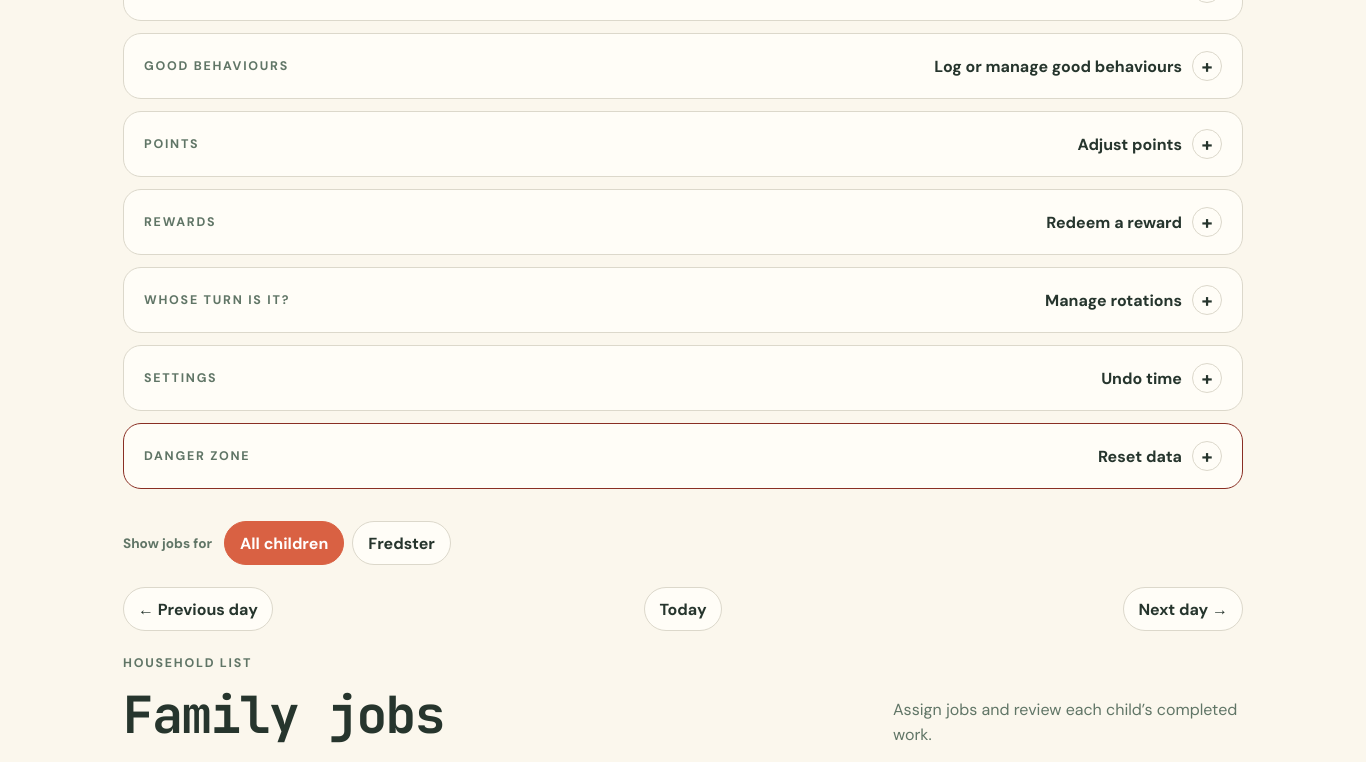
Scenario: undoable actions › lets a grown-up change the undo time for later actions
(page scrolled)
Click the heading "Settings Undo time +".
click(181, 378)  # box [144,363,1222,393]
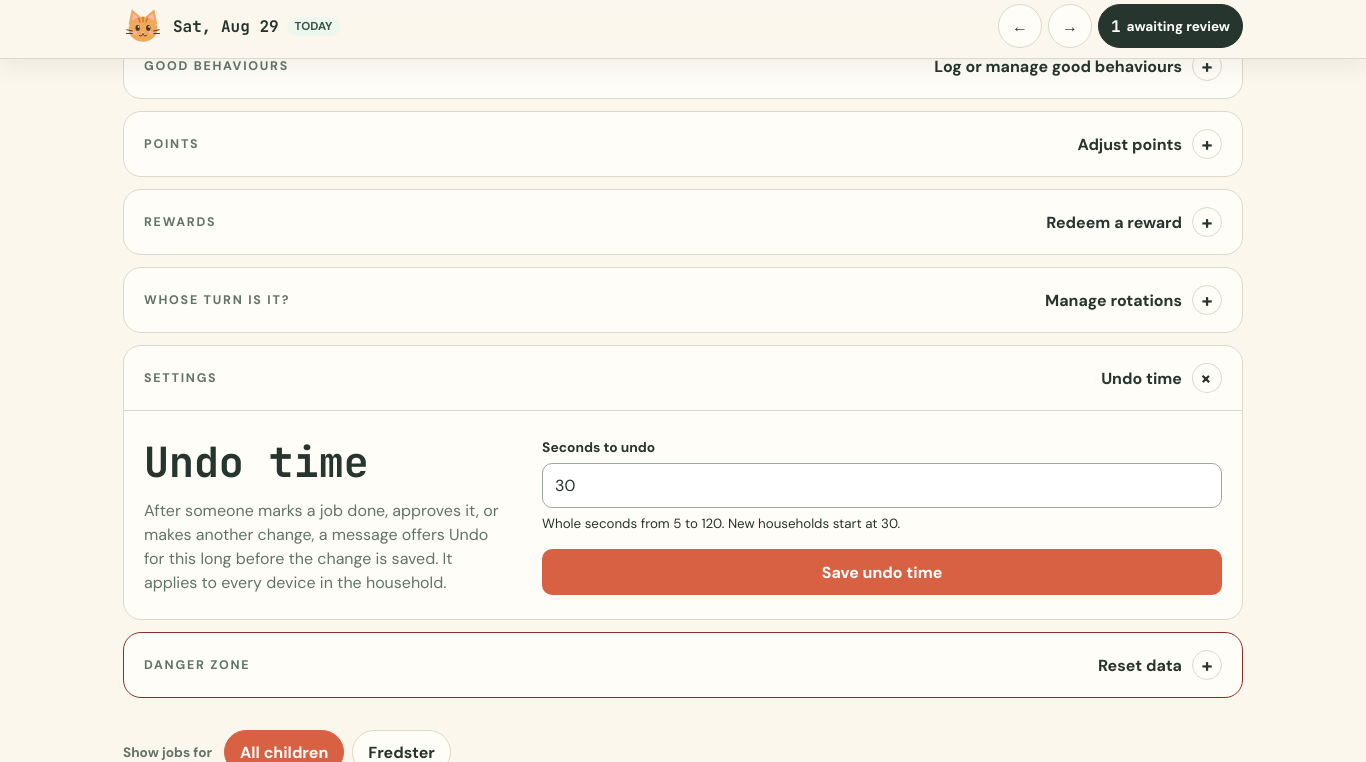
expect the number field labelled "Seconds to undo" holds "30": met
Replace the text in the number field labelled "Seconds to undo" with "45" at (882, 486), box [542,463,1222,508]
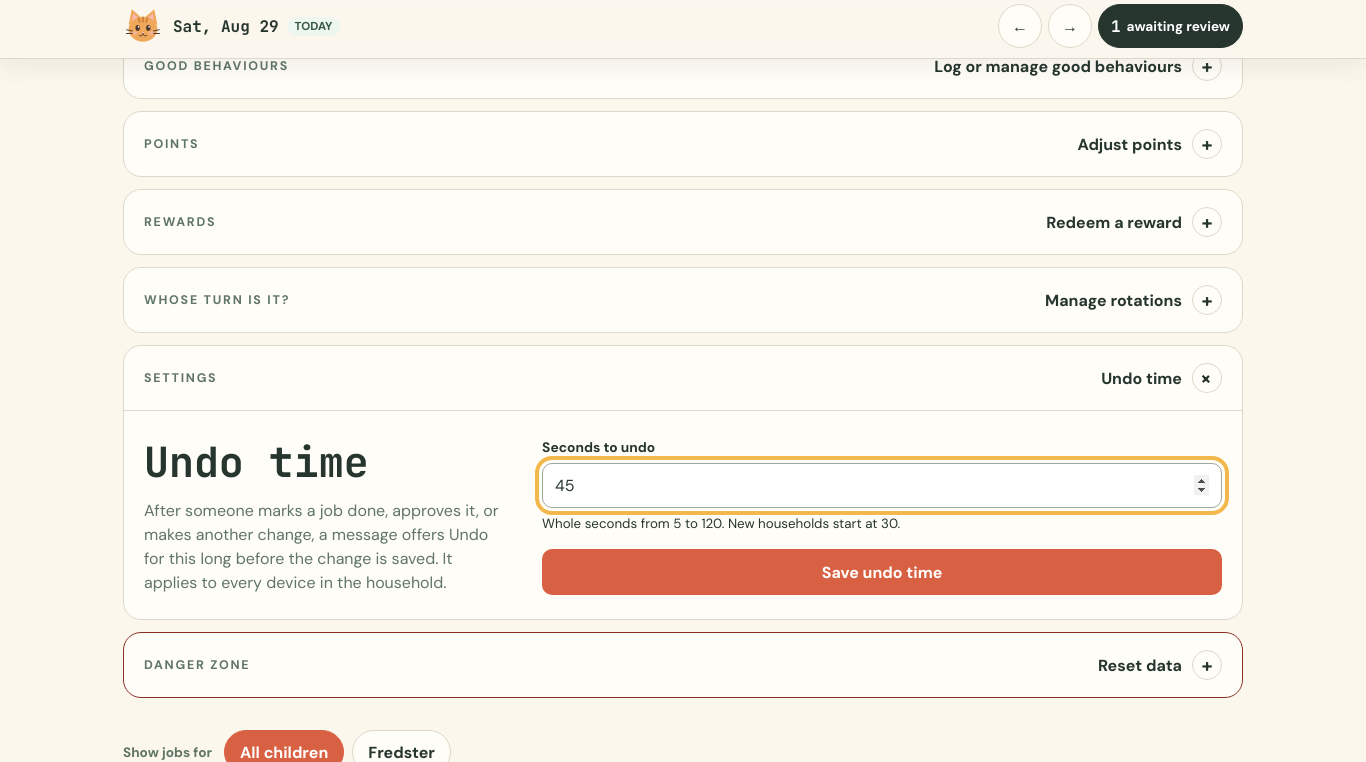
Click the button "Save undo time".
click(882, 572)  # box [542,549,1222,595]
(page scrolled)
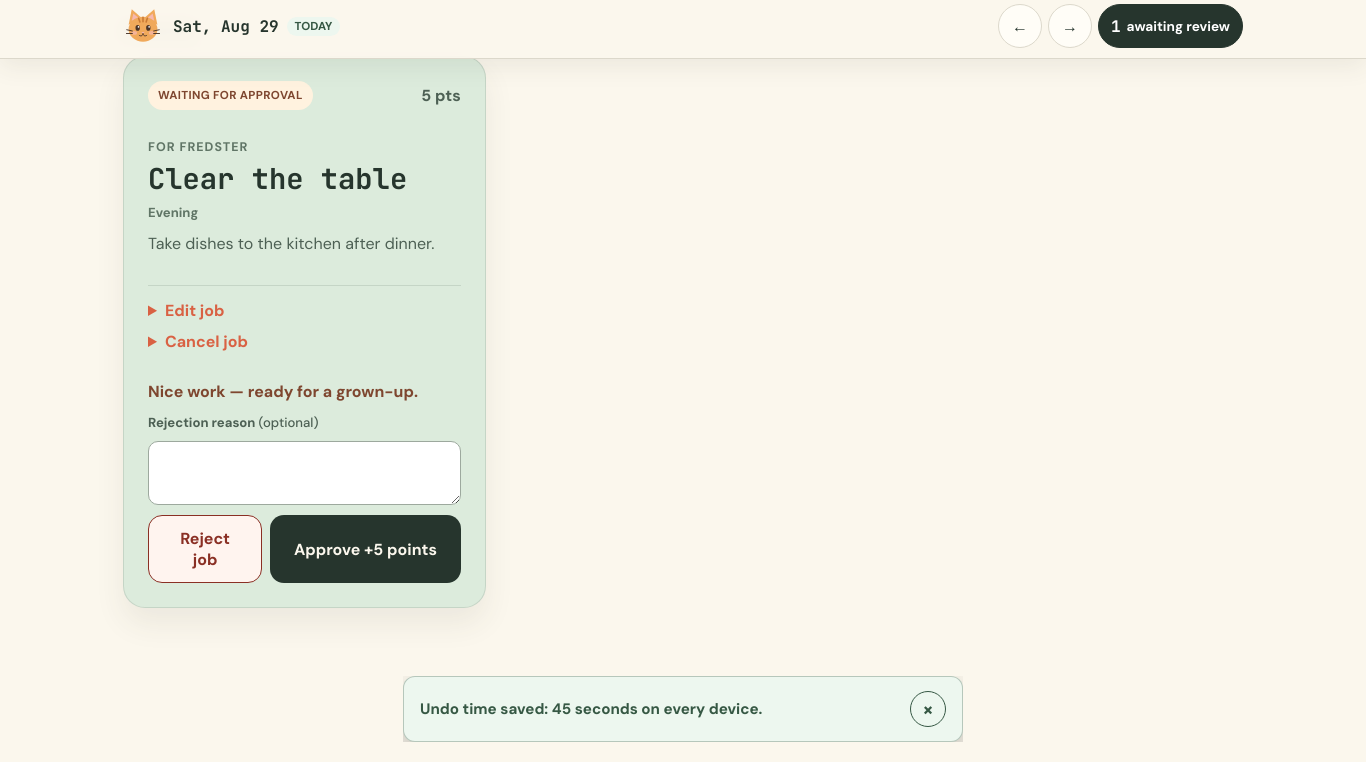
expect the 2nd text "Undo time saved: 45 seconds on every device." is shown: met, box [420,699,762,719]
Click the button "Approve +5 points".
click(365, 549)  # box [270,515,461,583]
(page scrolled)
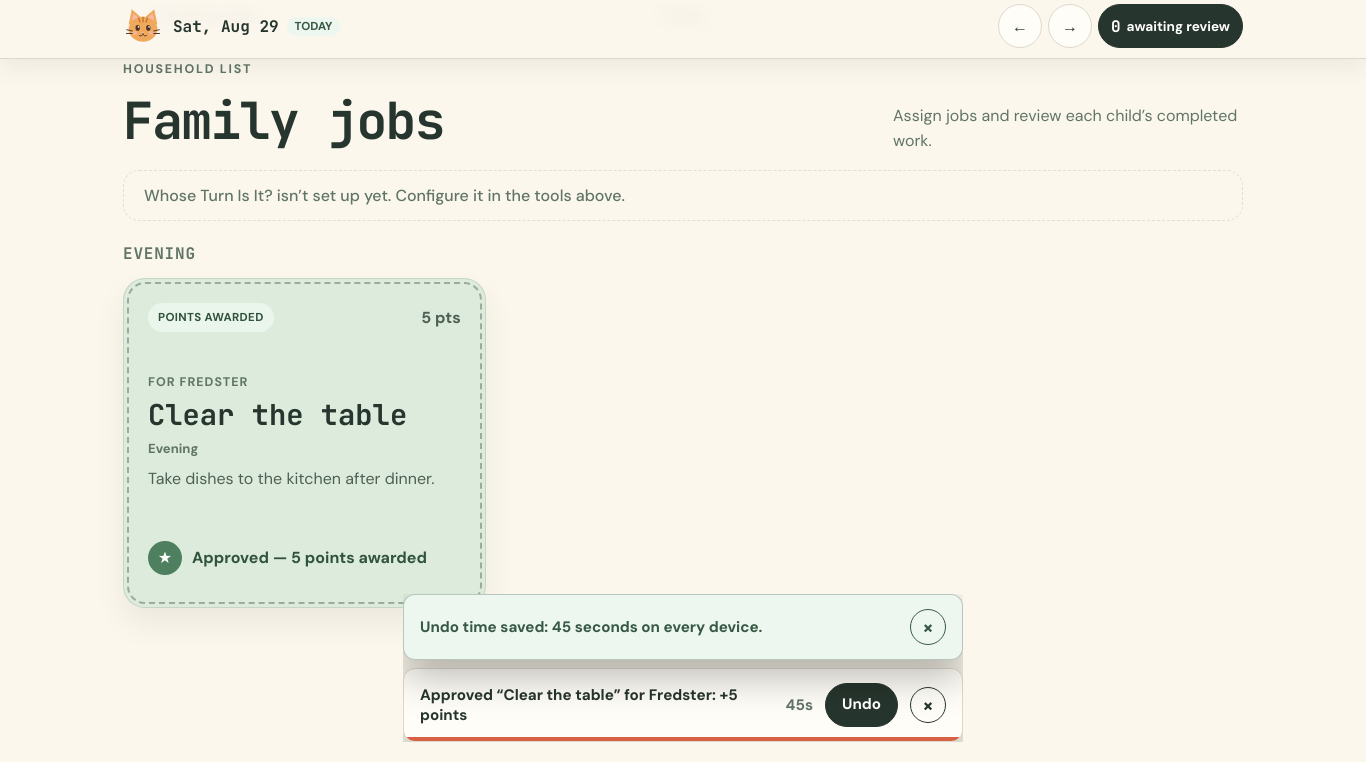
expect the text "Approved — 5 points awarded" is shown: met, box [148,533,461,583]
expect the text "45s" is shown: met, box [786,695,813,715]
